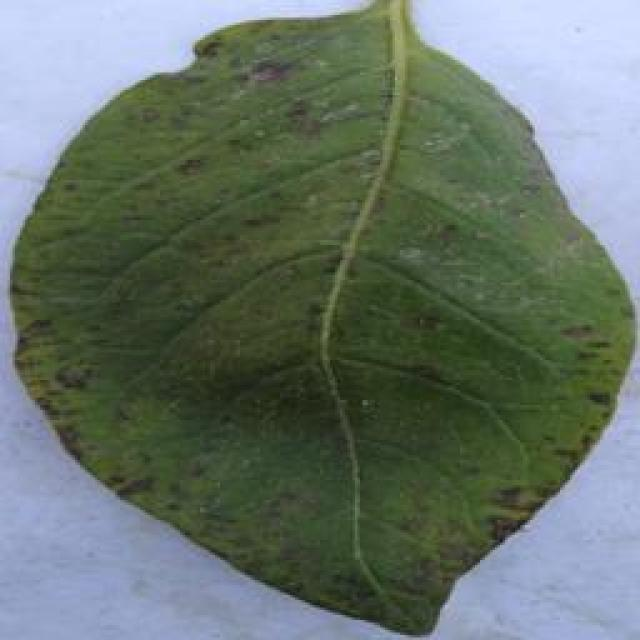Potato_Early_Blight: (12, 15, 640, 637)
